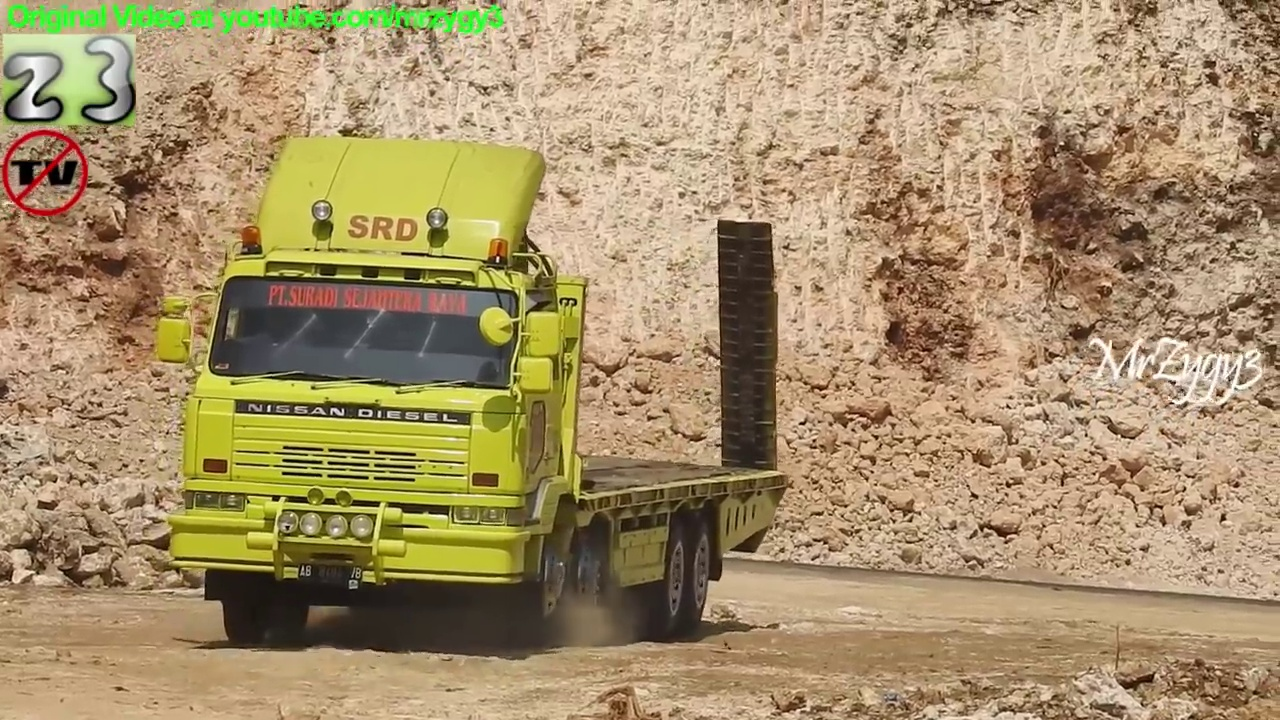truck: (153, 134, 799, 661)
